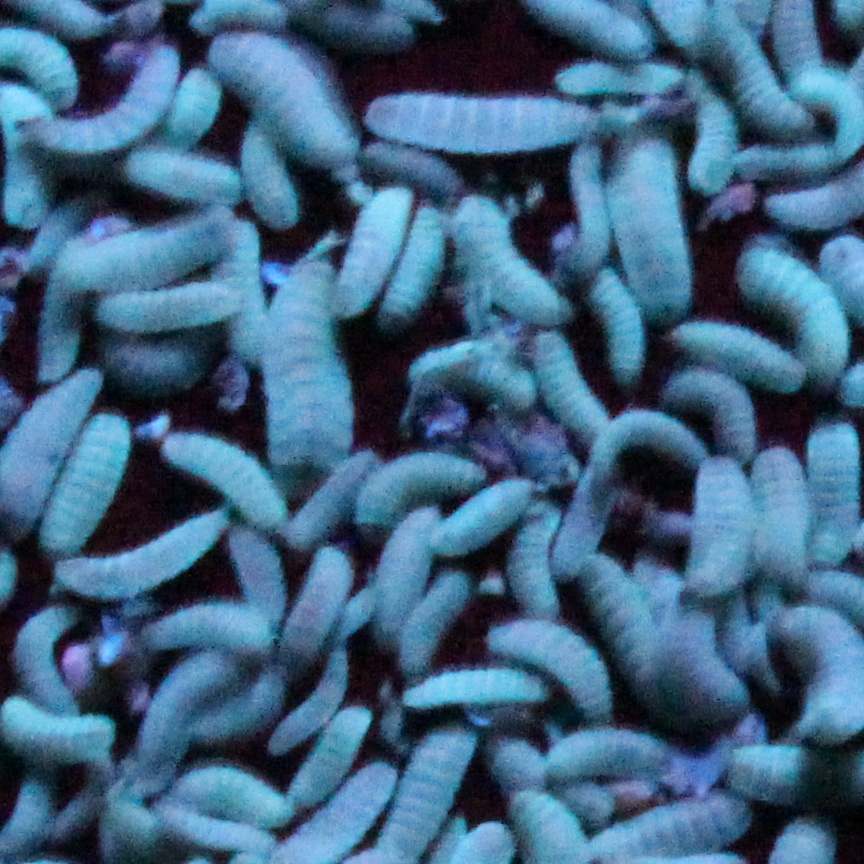larve: (208, 35, 357, 171), (18, 48, 176, 148), (266, 276, 338, 482), (640, 562, 740, 706), (6, 363, 100, 516), (55, 512, 226, 594), (622, 121, 692, 319), (368, 96, 602, 154), (458, 196, 558, 329), (707, 22, 815, 139), (743, 247, 841, 375), (70, 205, 226, 285), (49, 411, 132, 552), (166, 432, 280, 526), (385, 736, 478, 850), (499, 621, 608, 713), (591, 558, 659, 702), (743, 439, 808, 583), (353, 452, 491, 519), (685, 454, 751, 590), (139, 656, 221, 761), (337, 186, 407, 308), (674, 326, 807, 390), (278, 547, 349, 664), (87, 333, 231, 390), (285, 455, 371, 548), (413, 343, 537, 407), (2, 692, 110, 765), (533, 345, 613, 442), (37, 245, 94, 380), (584, 265, 653, 375), (805, 429, 859, 567), (378, 513, 433, 645), (163, 764, 285, 822), (269, 665, 352, 750), (299, 707, 370, 806), (672, 368, 758, 442), (432, 485, 523, 552), (390, 203, 443, 316), (142, 606, 276, 650), (124, 149, 244, 198), (227, 223, 268, 365), (404, 563, 455, 675), (243, 123, 295, 229), (227, 528, 291, 612), (152, 806, 275, 849), (194, 685, 285, 743), (16, 616, 78, 700), (511, 508, 558, 617), (365, 145, 462, 196), (101, 289, 237, 324), (406, 670, 554, 701), (543, 736, 677, 767), (169, 65, 217, 148), (617, 409, 700, 454), (548, 63, 682, 90), (700, 86, 730, 188), (58, 784, 99, 840), (339, 579, 371, 640)
